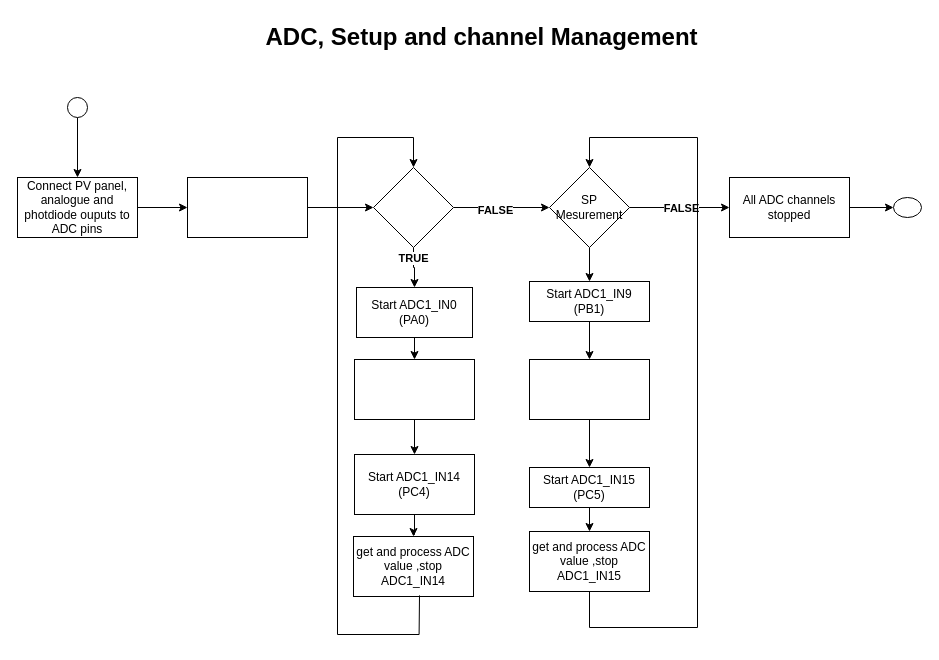
This 939x660 diagram has some shape labels left out. Each missing label, with the box of its shape:
ADC channels PB1, PC5, PA0 and PC4: (186, 176, 308, 238)
EN Meaurement: (372, 166, 454, 248)
get and process ADC value stop ADC1_IN0: (354, 358, 474, 420)
get and process ADC value, stop ADC1_IN9: (528, 358, 650, 420)
